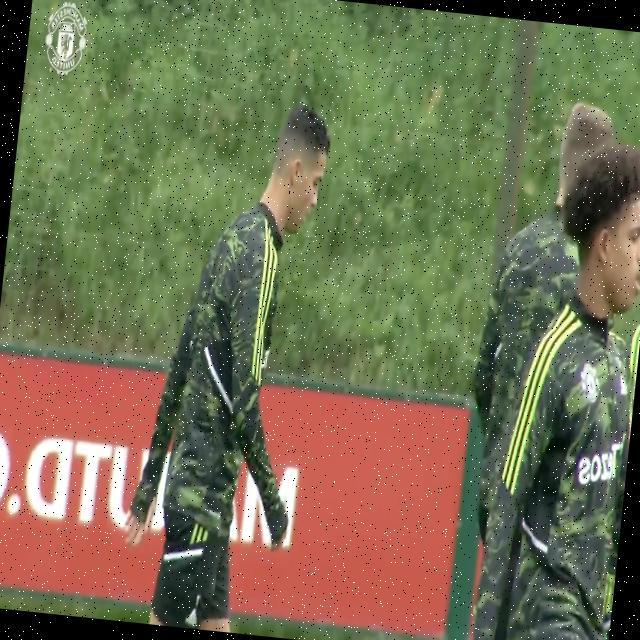Adidas: (182, 609, 198, 628), (618, 372, 629, 394)
